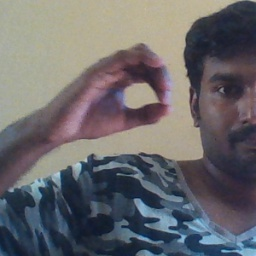O: (53, 41, 173, 143)
